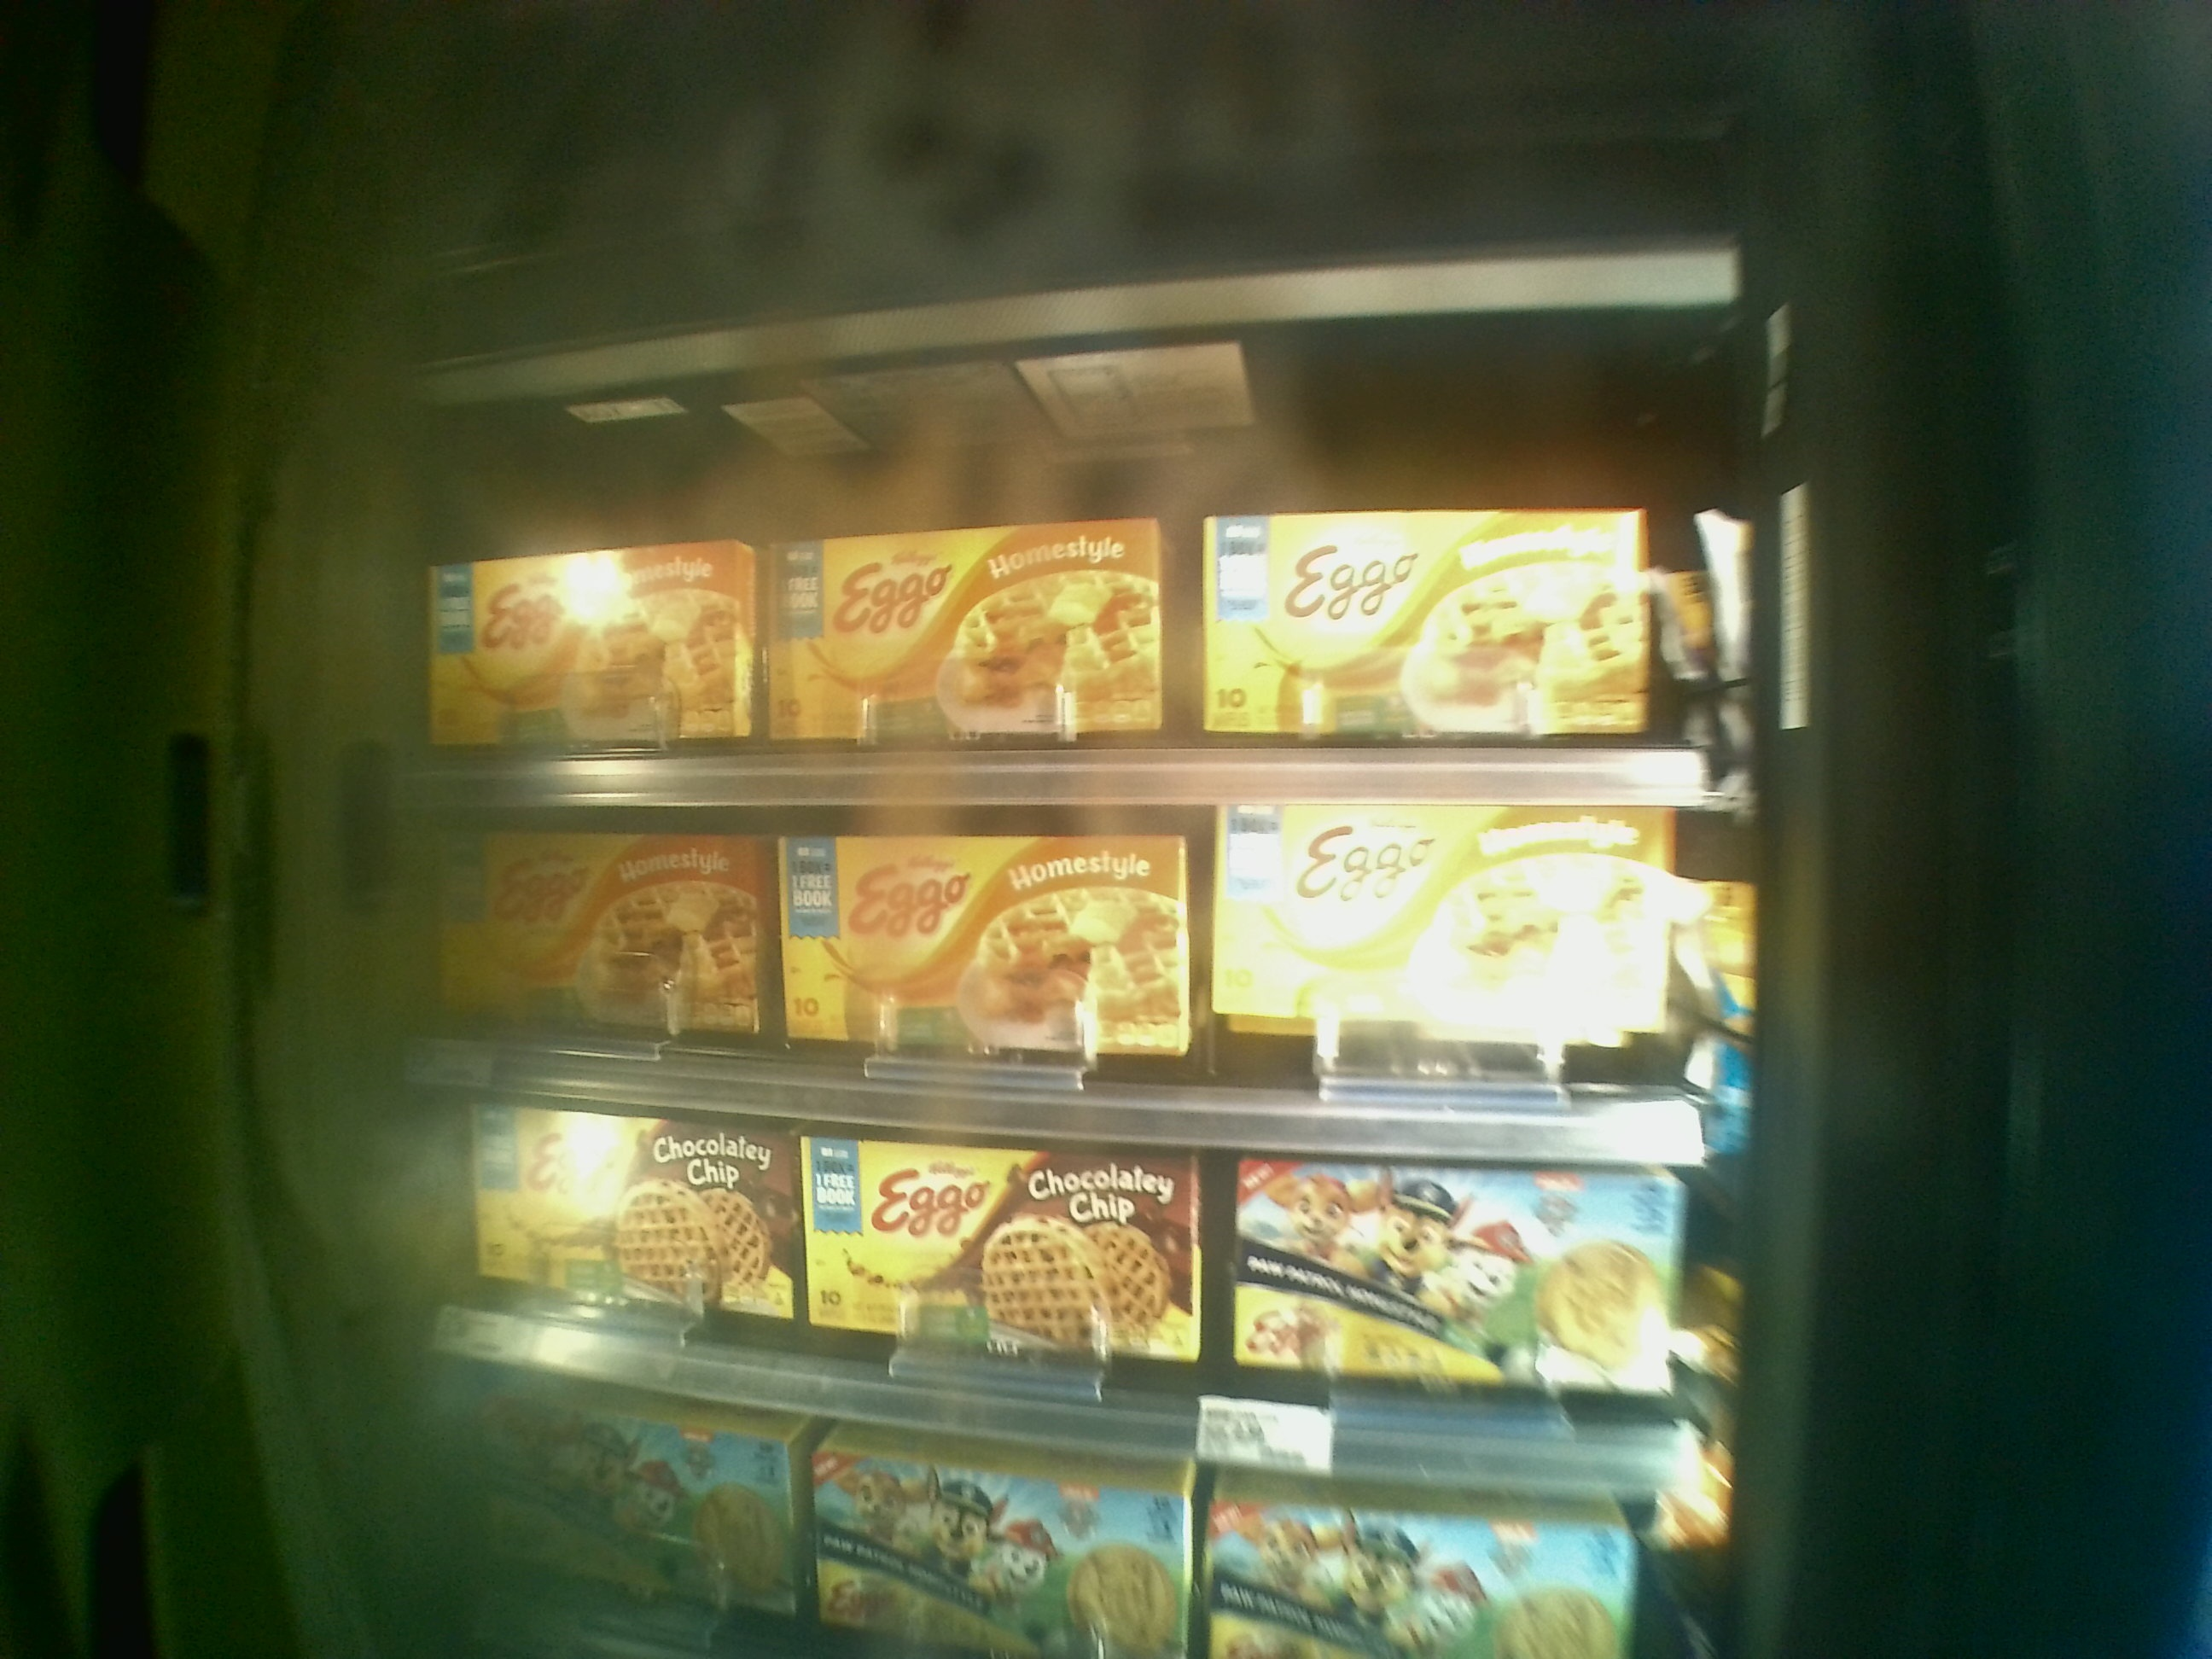shelf: (404, 782, 1749, 1166)
